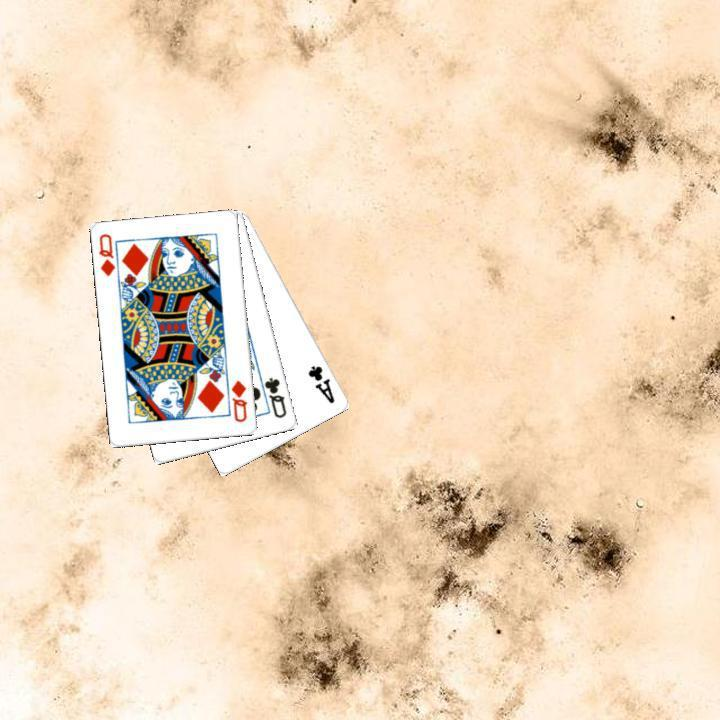A: (304, 361, 337, 406)
Q: (260, 373, 289, 420), (95, 230, 117, 279), (227, 376, 249, 424)
